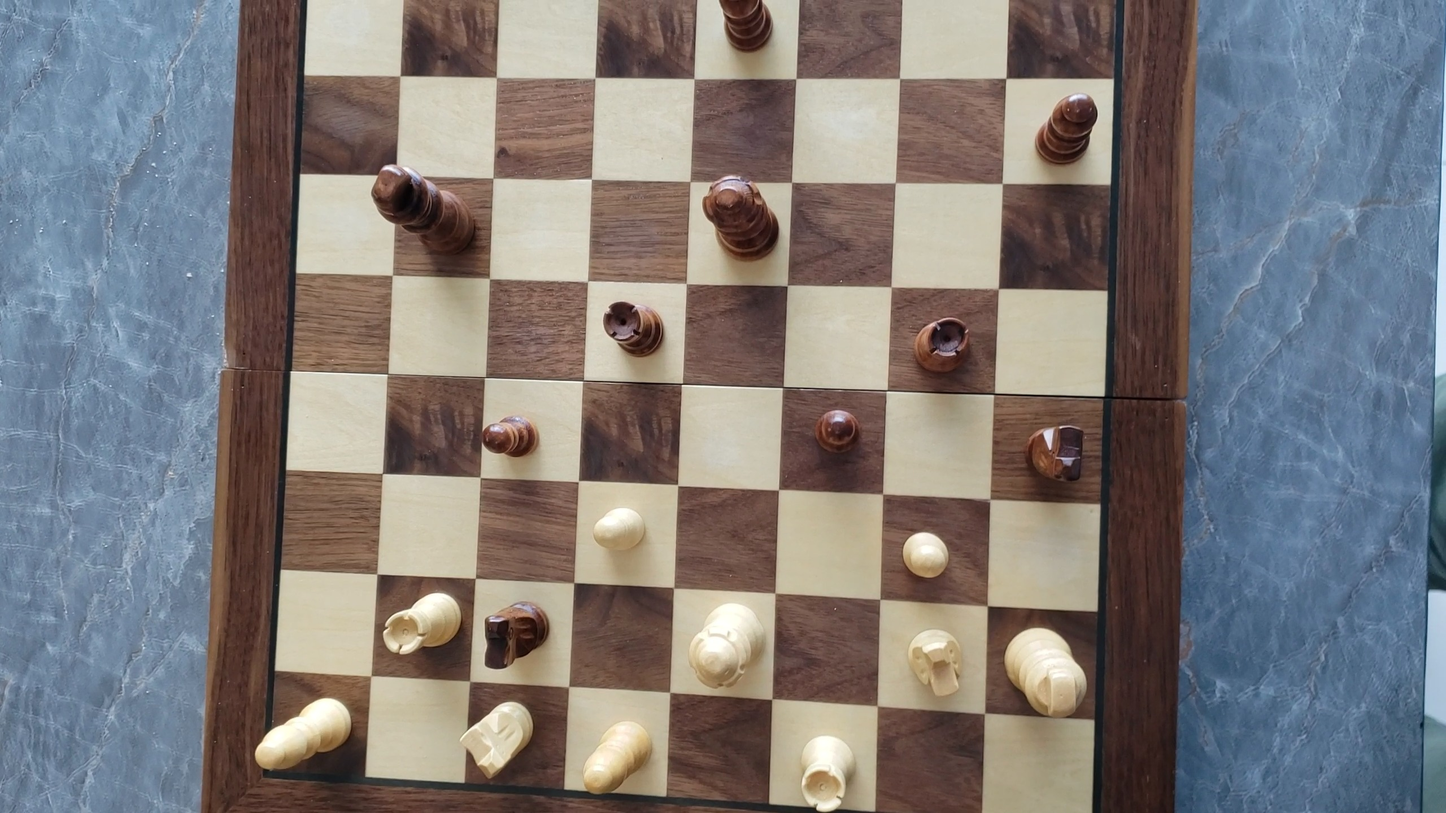black-bishop: (1033, 89, 1100, 165)
black-king: (368, 165, 476, 256)
black-knight: (482, 597, 552, 671), (1026, 422, 1088, 484)
black-pawn: (472, 407, 552, 467), (812, 405, 861, 455)
black-queen: (692, 170, 795, 264)
black-rook: (910, 314, 975, 375), (600, 298, 665, 357)
white-bishop: (250, 686, 364, 779), (578, 717, 656, 797)
white-king: (1004, 613, 1089, 724)
white-knight: (458, 698, 538, 781), (898, 621, 967, 700)
white-pawn: (587, 502, 652, 554), (898, 528, 955, 582)
white-queen: (683, 593, 775, 693)
white-rook: (380, 589, 465, 657), (793, 734, 860, 813)
